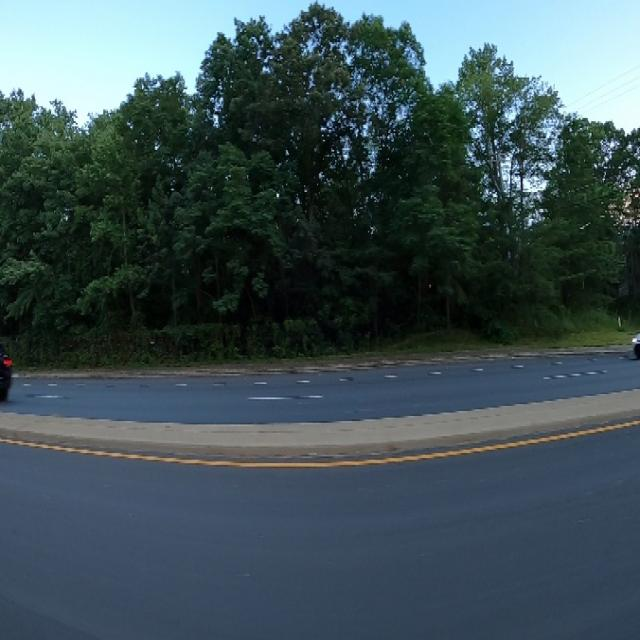cars: (0, 333, 11, 408), (630, 312, 640, 364)
